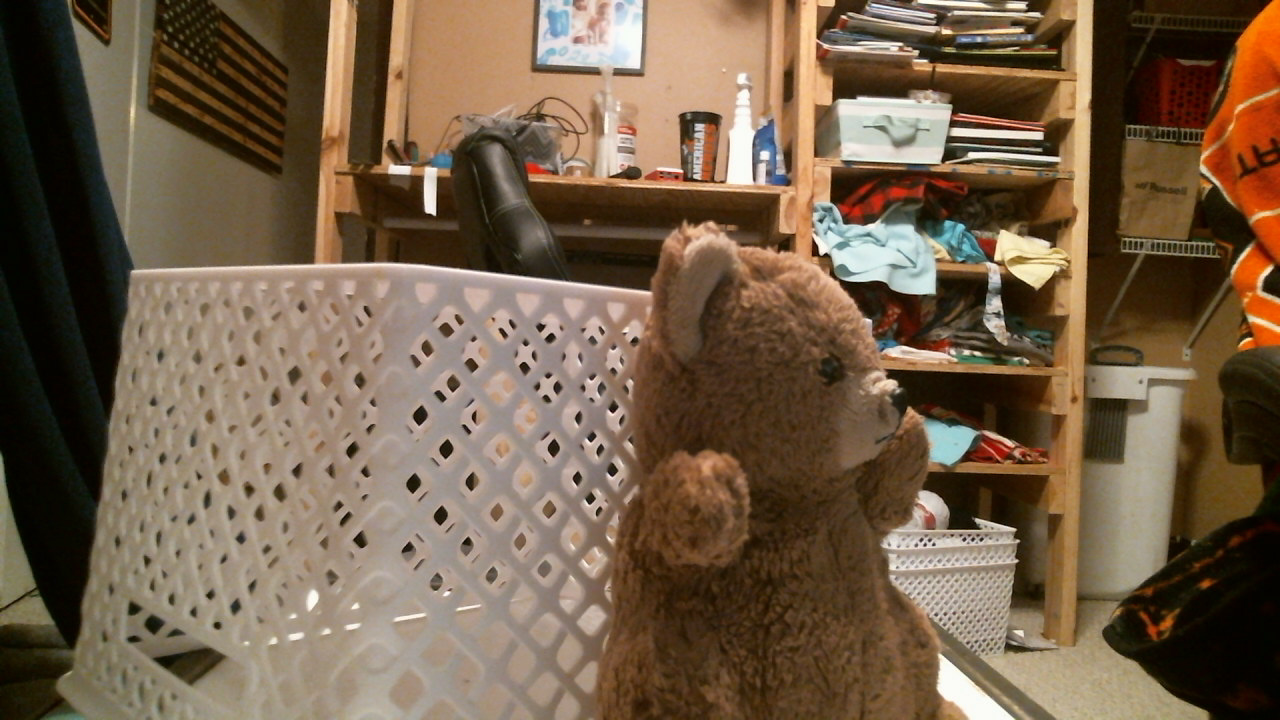Little_Mister_Bear: (777, 354, 911, 472)
